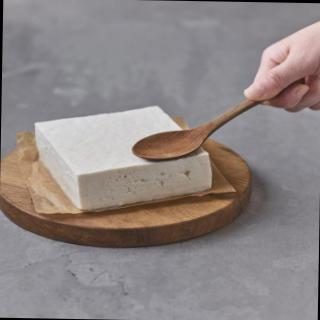Tahu: (28, 105, 221, 211)
